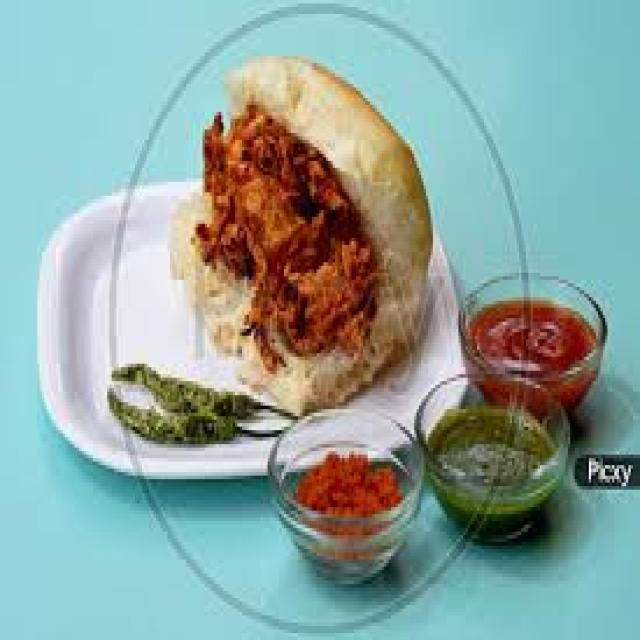BAJI: (188, 106, 382, 368)
